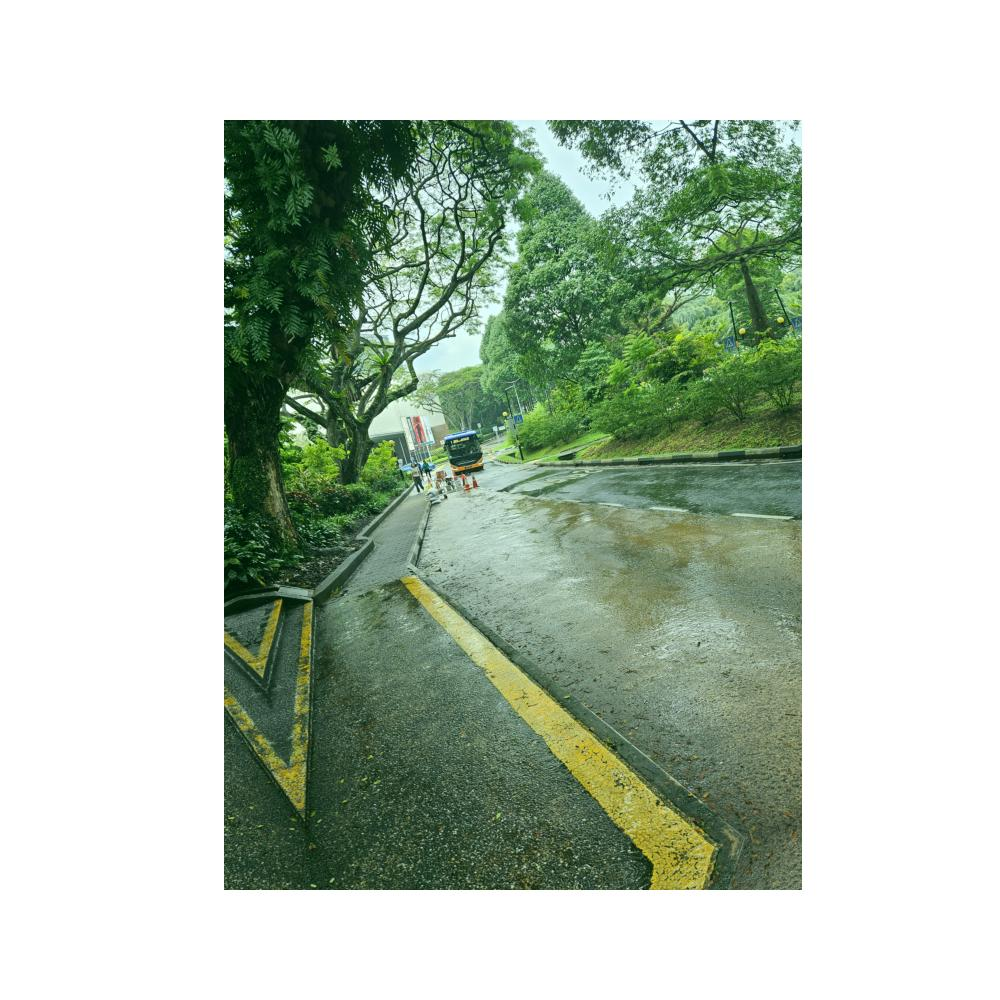bus: (442, 429, 487, 479)
